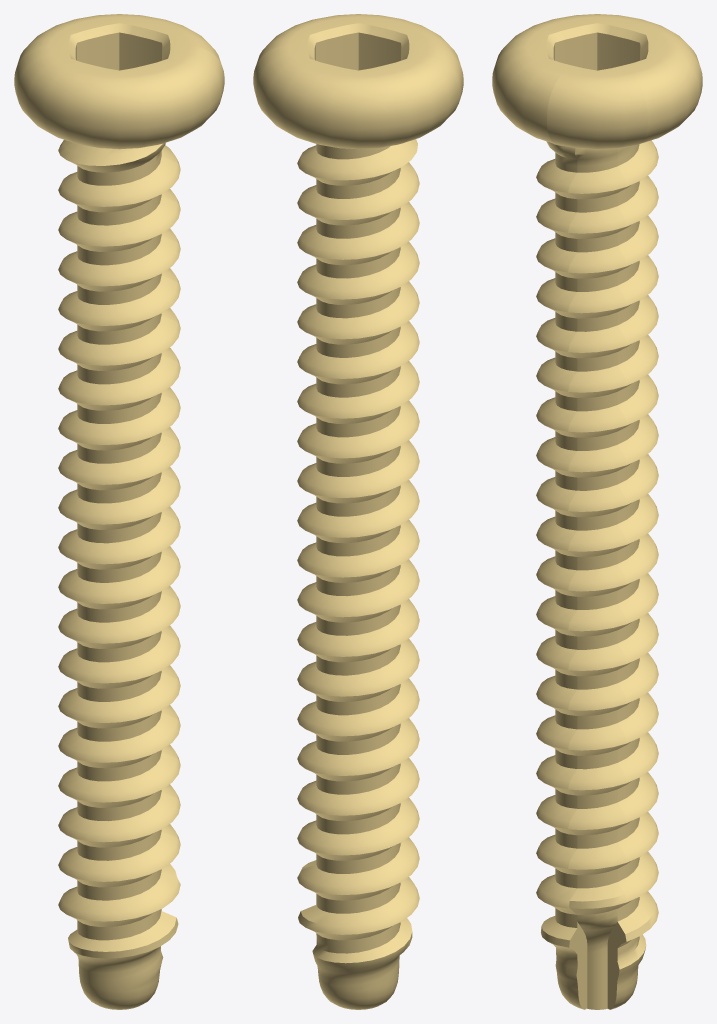
Rendered from os37_cortical_3p5x30_lod1.glb.
3 views of the same model, side by side, from view 1: azimuth 30°, elevation 25°; view 2: azimuth 150°, elevation 25°; view 3: azimuth 270°, elevation 25° (orthographic).
Parts seen in each view (by area): view 1: os37_cortical_3p5x30; view 2: os37_cortical_3p5x30; view 3: os37_cortical_3p5x30.
Part boxes in pixels (x1,y1,x2,y2): os37_cortical_3p5x30: (14, 14, 224, 1009); os37_cortical_3p5x30: (253, 14, 463, 1009); os37_cortical_3p5x30: (492, 14, 702, 1009).
Bounding box in the file's own units: 0.006 × 0.03 × 0.006.
